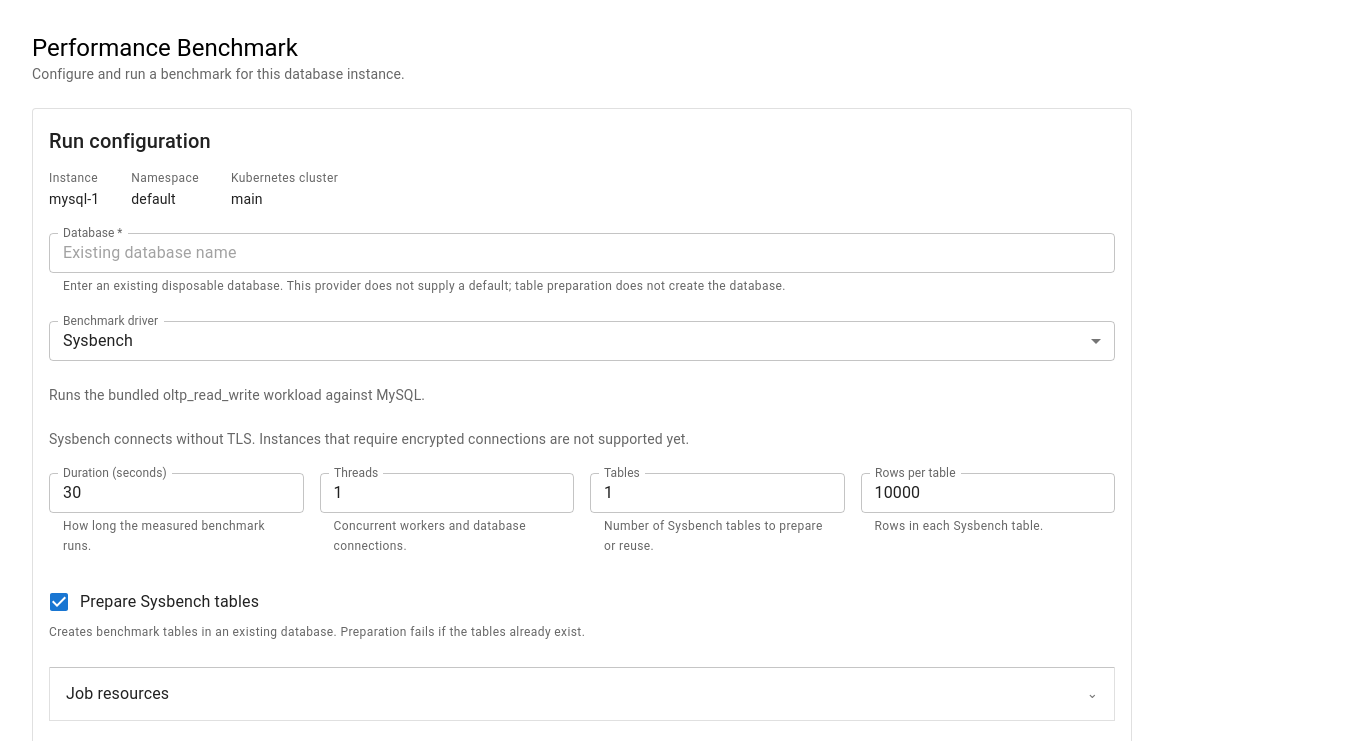
it: benchmark driver workflow › sysbench retains independent polling, metrics, and logs for concurrent runs
The width and height of the screenshot is (1366, 741).
Type "sbtest" into the field labelled "Database".
click(582, 253); type("sbtest")  # box [49,233,1115,273]
(page scrolled)
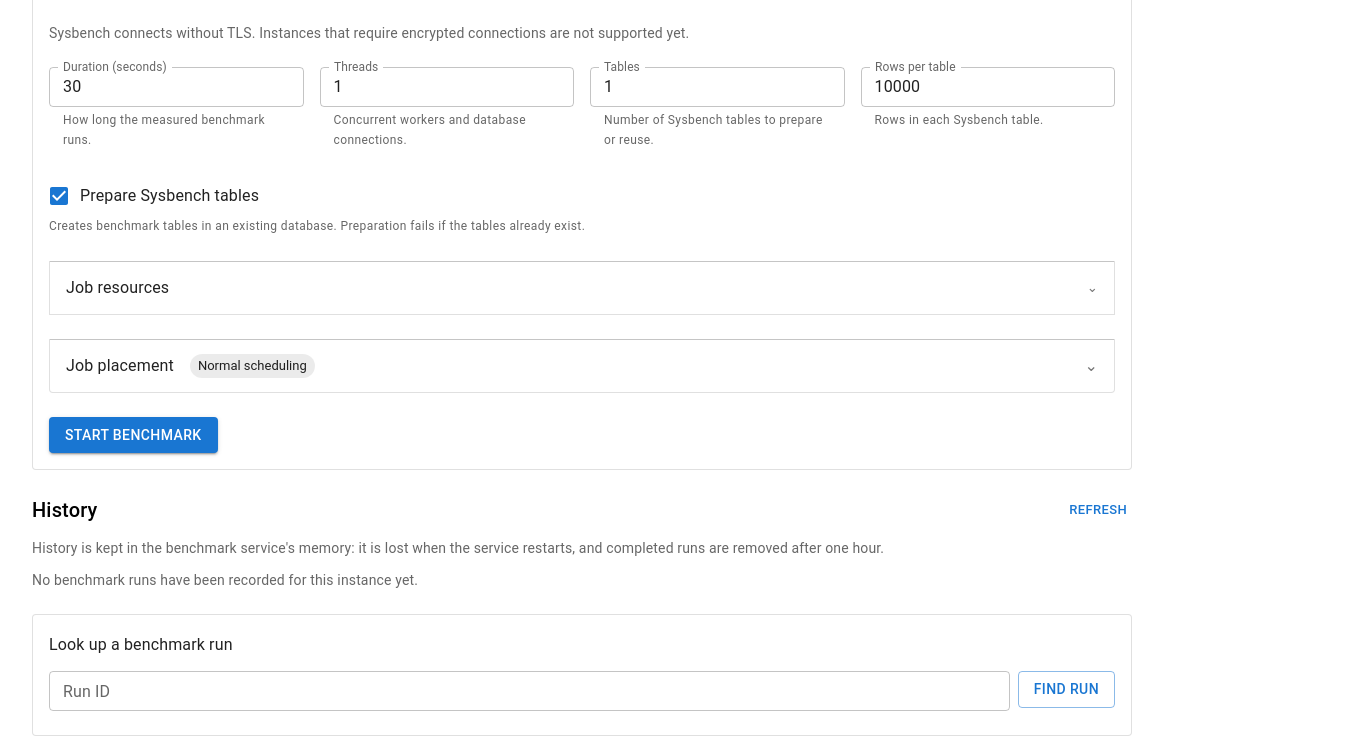
Click the button "Start benchmark".
click(133, 435)  # box [49,417,218,453]
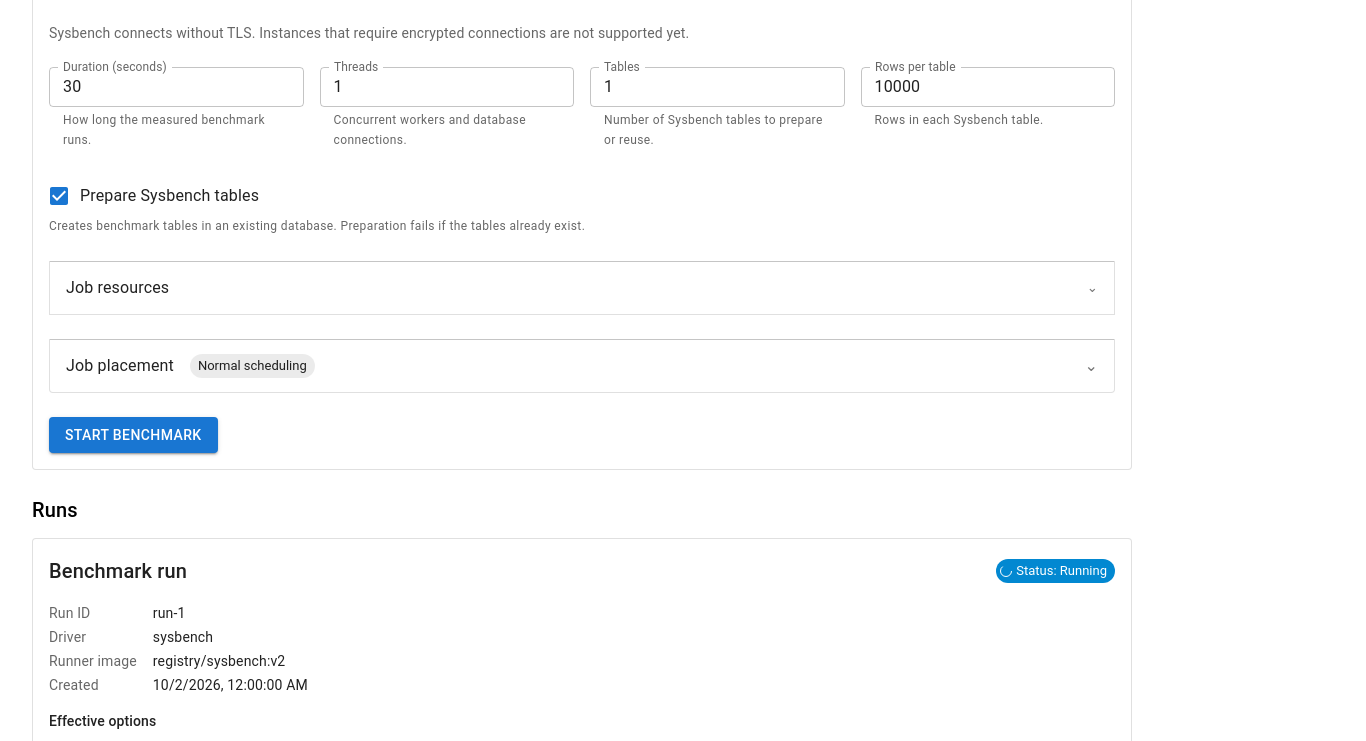
Click the button "Start benchmark".
click(133, 435)  # box [49,417,218,453]
Wait 2000 ms
(page scrolled)
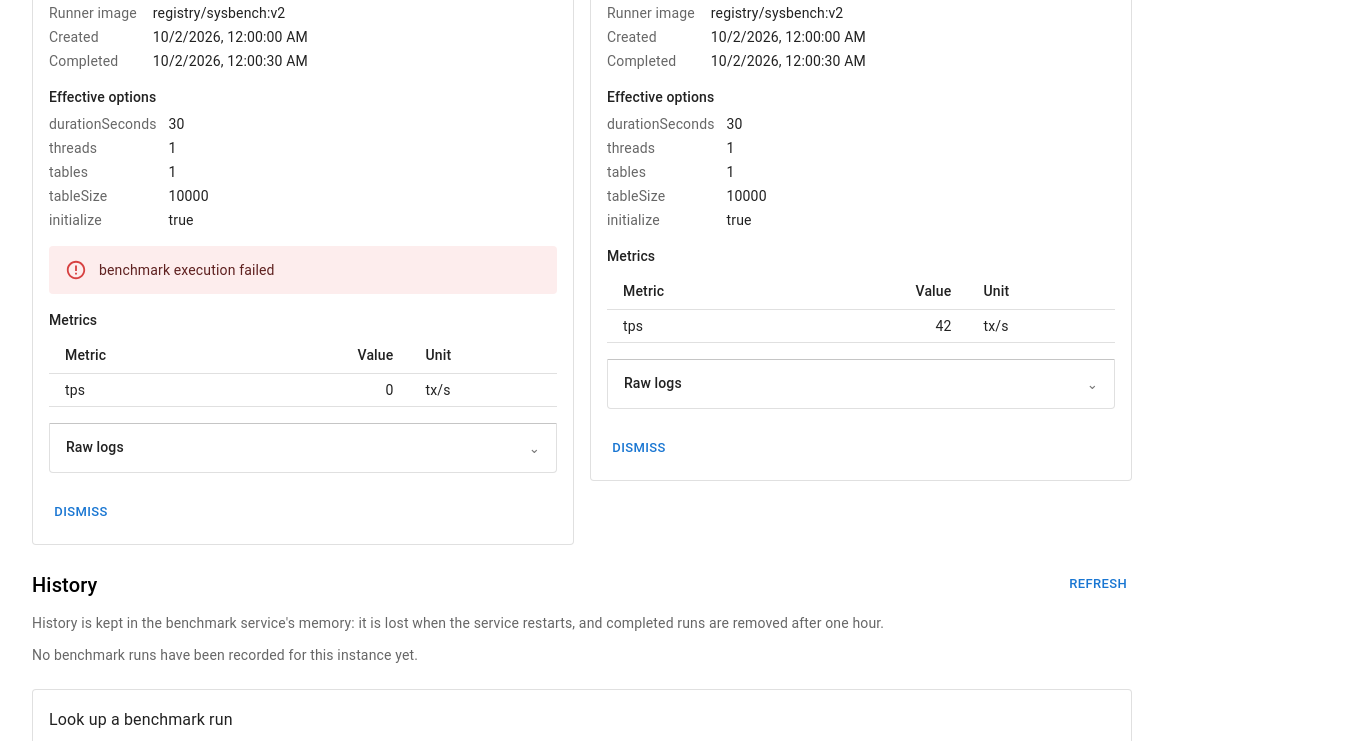
Expected: the cell "42" is shown, [794,310,968,342]
Expected: the cell "0" is shown, [236,374,410,406]
Expected: the message reads "benchmark execution failed", [99,262,275,278]
Click the button "Raw logs ⌄" below "42".
click(653, 383)  # box [608,360,1114,408]
(page scrolled)
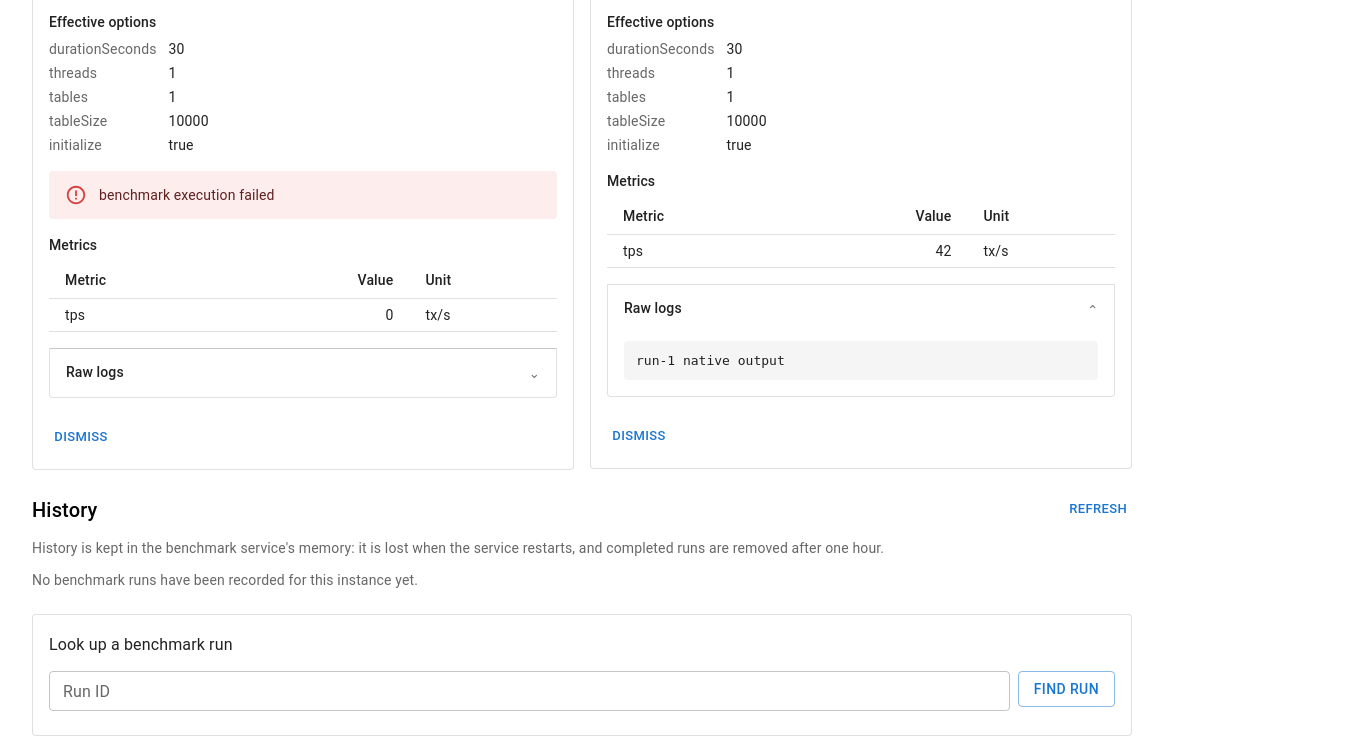
Expected: the text named "Benchmark output" reads "run-1 native output", [636,353,785,368]
Type "run-1" into the field labelled "Run ID".
click(529, 691); type("run-1")  # box [49,671,1010,711]
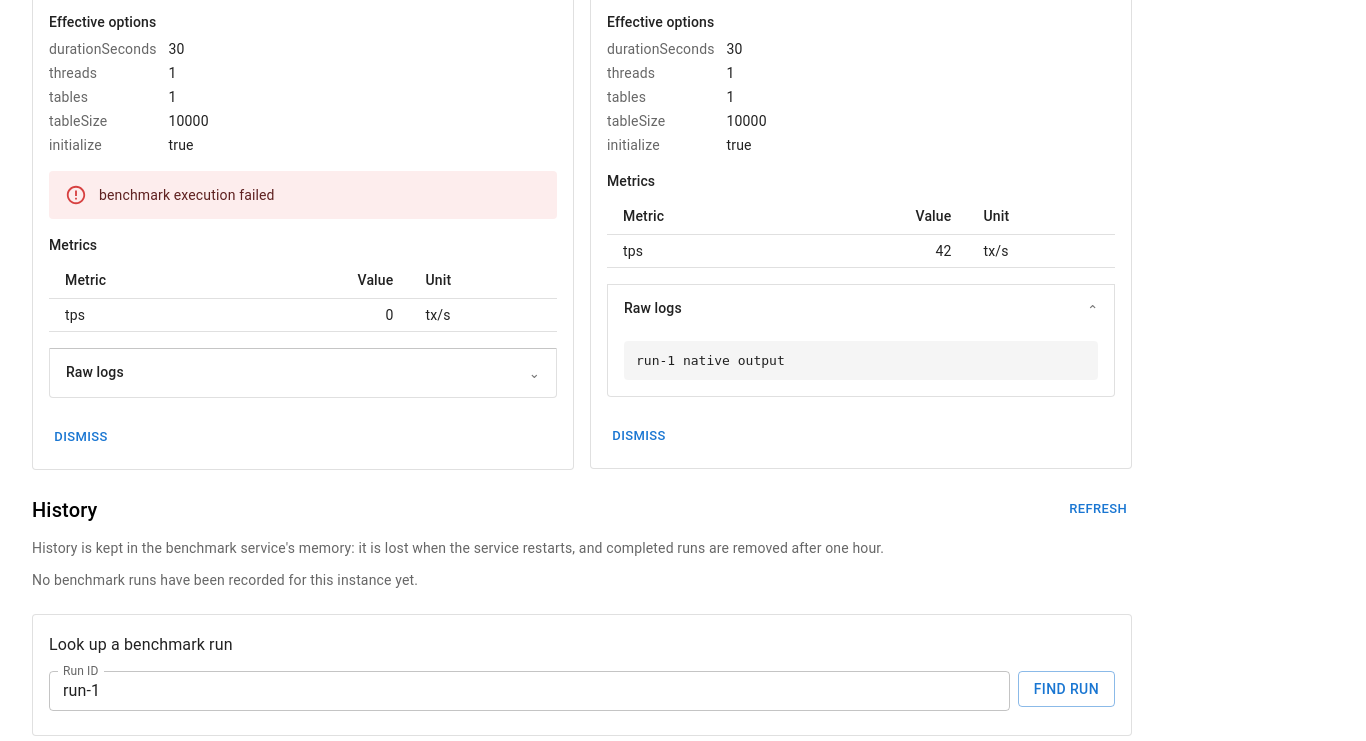
Click the button "Find run".
click(1066, 689)  # box [1018,671,1115,707]
Wait 10000 ms
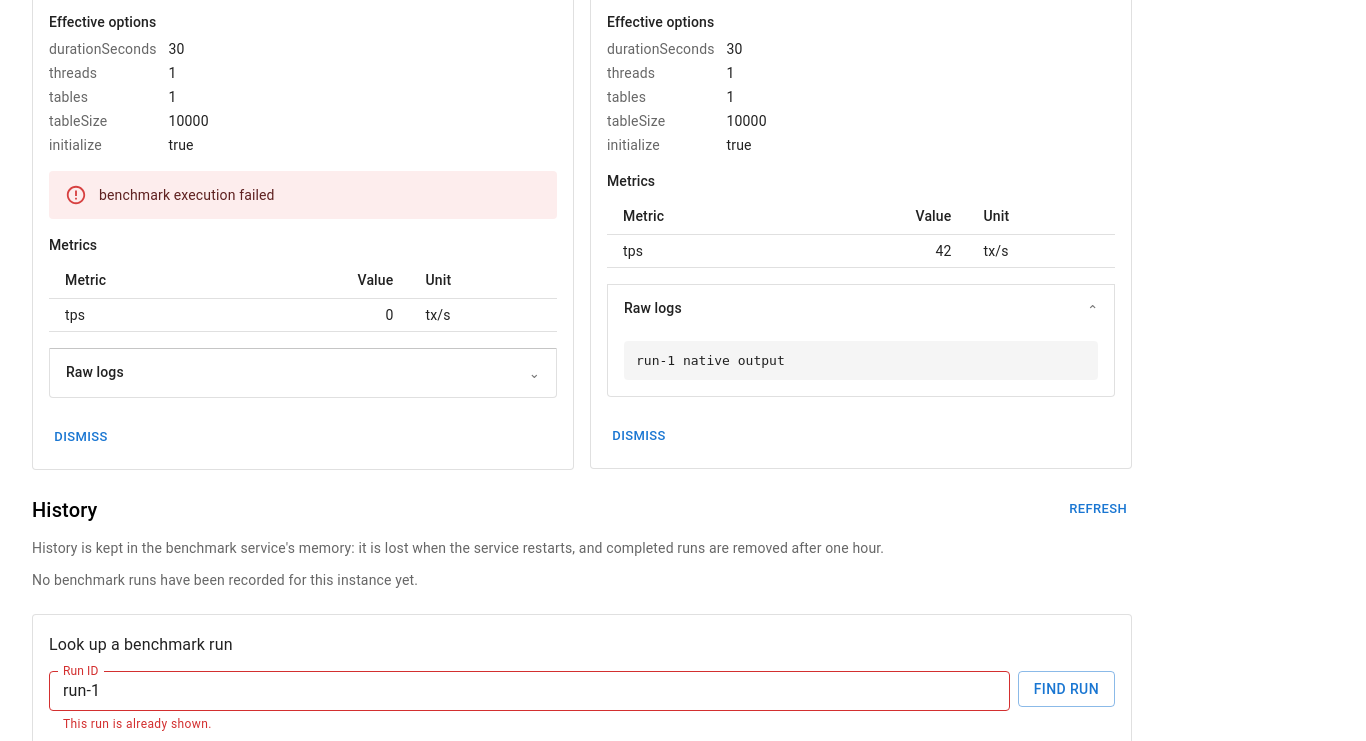
Expected: the text "This run is already shown." is shown, [63,717,212,731]
